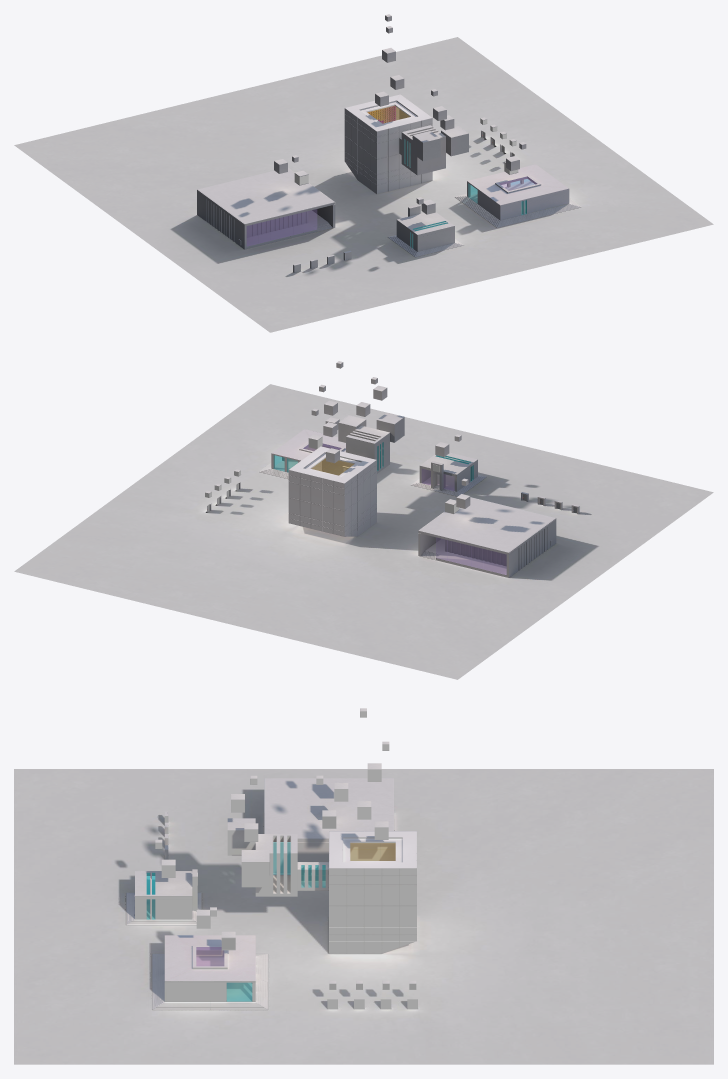
3 renders of one model, top to bottom at view 1: azimuth 30°, elevation 25°; view 2: azimuth 150°, elevation 25°; view 3: azimuth 270°, elevation 25°, orthographic. The views are drawn at different scales.
Parts seen in each view (by area): view 1: Floor_01_VRayCompleteMap, Floor_01_VRayCompleteMap001, Club_01_VRayCompleteMap, Hub_05_VRayCompleteMap, Store_01_VRayCompleteMap, Cubes_VRayCompleteMap, Bookstore_01_VRayCompleteMap, Glass_Pink_pbr, Store_02_VRayCompleteMap, Hub_03_VRayCompleteMap, Hub_01_VRayCompleteMap, Club_02_VRayCompleteMap; view 2: Floor_01_VRayCompleteMap, Floor_01_VRayCompleteMap001, Club_01_VRayCompleteMap, Hub_05_VRayCompleteMap, Cubes_VRayCompleteMap, Glass_Pink_pbr, Bookstore_01_VRayCompleteMap, Hub_01_VRayCompleteMap, Hub_03_VRayCompleteMap, Store_01_VRayCompleteMap, Club_02_VRayCompleteMap, Bookstore_02_VRayCompleteMap; view 3: Floor_01_VRayCompleteMap, Floor_01_VRayCompleteMap001, Hub_05_VRayCompleteMap, Club_01_VRayCompleteMap, Store_01_VRayCompleteMap, Cubes_VRayCompleteMap, Store_02_VRayCompleteMap, Bookstore_01_VRayCompleteMap, Hub_03_VRayCompleteMap, Hub_01_VRayCompleteMap, Glass_Blue_pbr, Bookstore_02_VRayCompleteMap (+3 smaller).
Boxes of the visible parts, box(x1,y1,x2,y2) form: Floor_01_VRayCompleteMap: box(14, 37, 713, 332); Floor_01_VRayCompleteMap001: box(32, 37, 692, 332); Club_01_VRayCompleteMap: box(197, 168, 335, 249); Hub_05_VRayCompleteMap: box(344, 94, 432, 194); Store_01_VRayCompleteMap: box(467, 164, 569, 220); Cubes_VRayCompleteMap: box(274, 14, 526, 214); Bookstore_01_VRayCompleteMap: box(396, 204, 454, 251); Glass_Pink_pbr: box(247, 176, 536, 246); Store_02_VRayCompleteMap: box(455, 179, 580, 227); Hub_03_VRayCompleteMap: box(345, 94, 431, 131); Hub_01_VRayCompleteMap: box(401, 125, 445, 175); Club_02_VRayCompleteMap: box(246, 210, 332, 246); Floor_01_VRayCompleteMap: box(14, 384, 713, 679); Floor_01_VRayCompleteMap001: box(80, 384, 712, 678); Club_01_VRayCompleteMap: box(418, 497, 556, 577); Hub_05_VRayCompleteMap: box(288, 446, 376, 536); Cubes_VRayCompleteMap: box(205, 361, 470, 513); Glass_Pink_pbr: box(303, 444, 506, 574); Bookstore_01_VRayCompleteMap: box(419, 452, 477, 491); Hub_01_VRayCompleteMap: box(346, 425, 389, 473); Hub_03_VRayCompleteMap: box(289, 446, 375, 483); Store_01_VRayCompleteMap: box(271, 429, 345, 471); Club_02_VRayCompleteMap: box(420, 538, 506, 577); Bookstore_02_VRayCompleteMap: box(411, 474, 486, 496); Floor_01_VRayCompleteMap: box(14, 769, 713, 1064); Floor_01_VRayCompleteMap001: box(14, 769, 713, 1064); Hub_05_VRayCompleteMap: box(329, 831, 416, 953); Club_01_VRayCompleteMap: box(264, 778, 393, 873); Store_01_VRayCompleteMap: box(164, 935, 255, 1001); Cubes_VRayCompleteMap: box(155, 708, 416, 989); Store_02_VRayCompleteMap: box(152, 953, 267, 1009); Bookstore_01_VRayCompleteMap: box(135, 869, 197, 919); Hub_03_VRayCompleteMap: box(329, 831, 416, 868); Hub_01_VRayCompleteMap: box(255, 834, 297, 896); Glass_Blue_pbr: box(146, 842, 325, 1001); Bookstore_02_VRayCompleteMap: box(126, 892, 201, 925).
Size of the model in its own units: 600 by 214 by 600.
35 materials, 32 textured.
